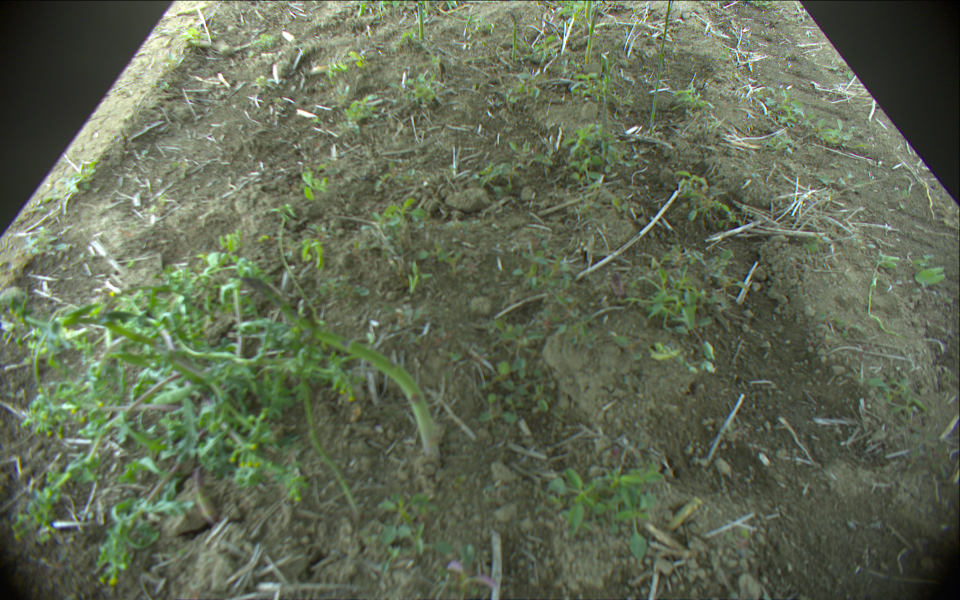aspa: (236, 271, 444, 462), (650, 1, 673, 134), (585, 1, 600, 67), (509, 21, 519, 61), (418, 3, 425, 41)
